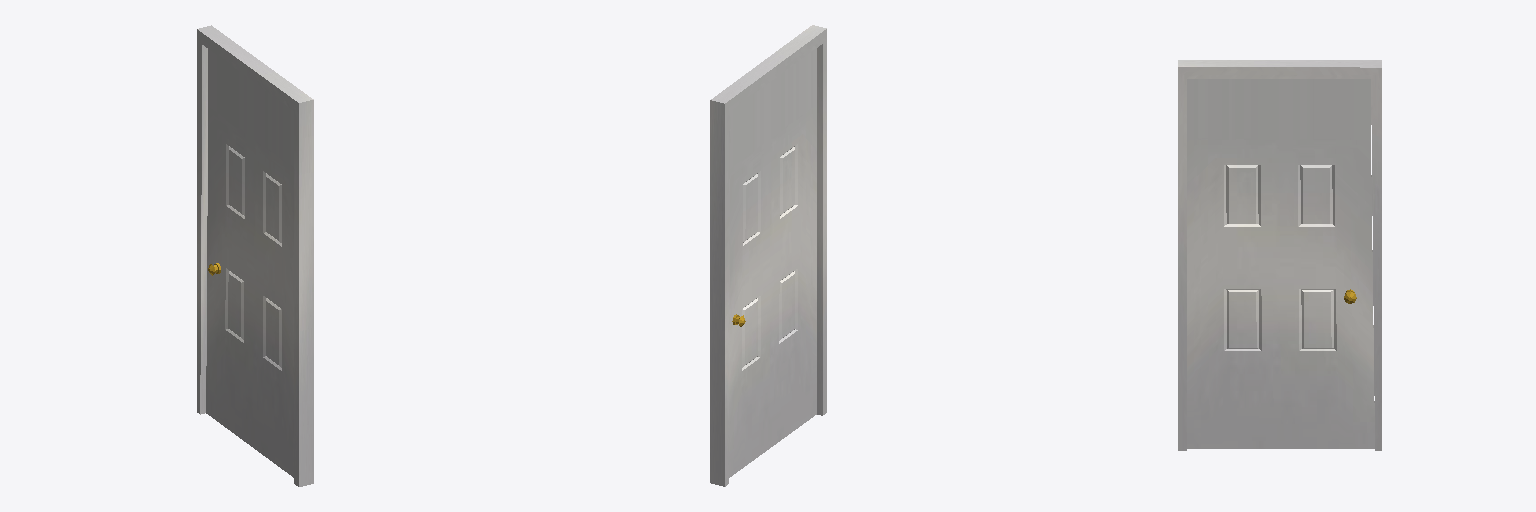
3 views of the same model, side by side, from view 1: azimuth 30°, elevation 25°; view 2: azimuth 150°, elevation 25°; view 3: azimuth 270°, elevation 25° (orthographic).
Parts seen in each view (by area): view 1: PuertaPrincipal; view 2: PuertaPrincipal; view 3: PuertaPrincipal.
Part boxes in pixels (bbox=[...]): PuertaPrincipal: bbox=[197, 25, 313, 486]; PuertaPrincipal: bbox=[710, 25, 826, 486]; PuertaPrincipal: bbox=[1178, 60, 1381, 450].
Size of the model in its own units: 0.6611 by 10.27 by 4.95.
2 materials, 2 textured.